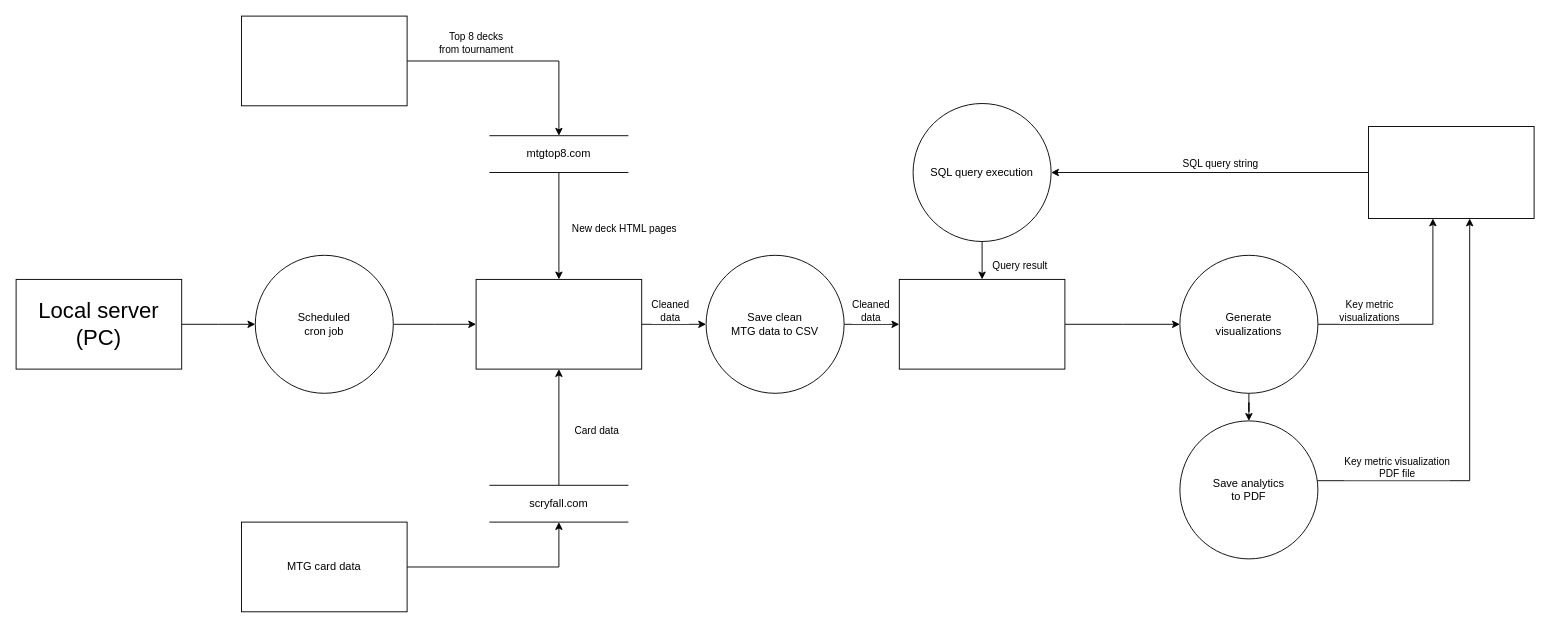
This 1550x628 diagram has some shape labels left out. The shapes that lost their labels are listed below. From the top down, each one's centre as x and y in pixels, then its label:
At (x=324, y=60): "MTG tournaments".
At (x=1451, y=172): "User".
At (x=558, y=323): "Data cleaning script".
At (x=981, y=323): "Data analytics notebook".
